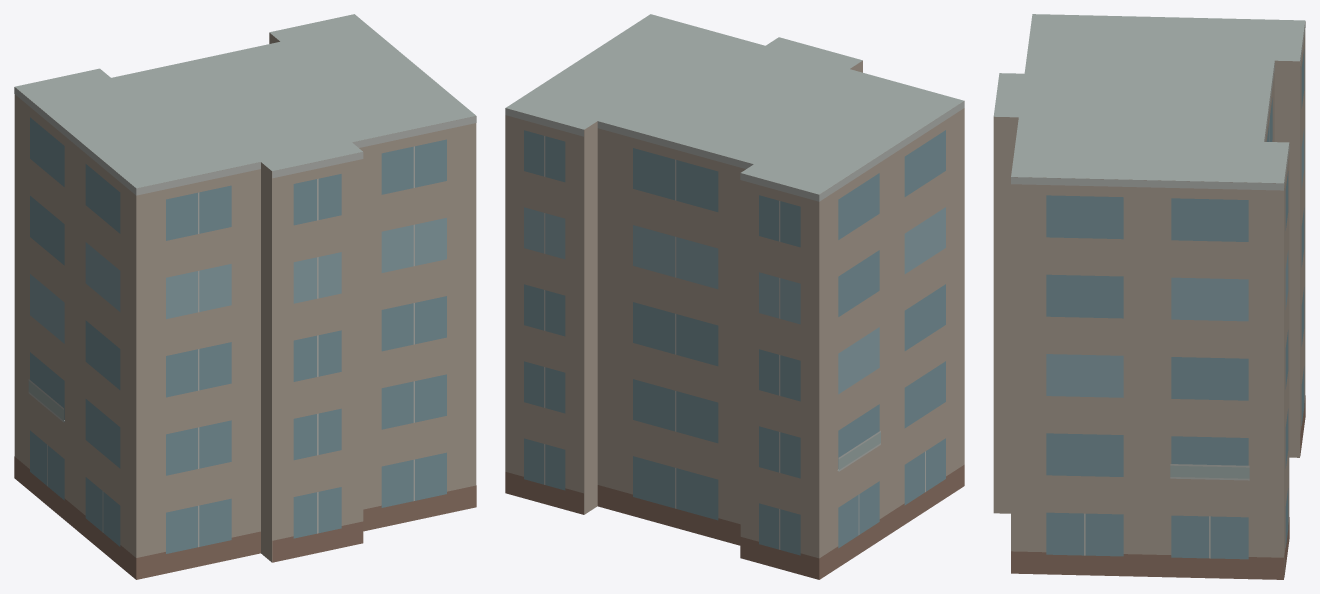
The model's file is survey-upis-32630335.glb.
3 renders of one model, left to right at view 1: azimuth 30°, elevation 25°; view 2: azimuth 150°, elevation 25°; view 3: azimuth 270°, elevation 25°, orthographic. The views are drawn at different scales.
Parts seen in each view (by area): view 1: survey-upis-32630335.tmp; view 2: survey-upis-32630335.tmp; view 3: survey-upis-32630335.tmp.
Boxes of the visible parts, box(x1,y1,x2,y2) form: survey-upis-32630335.tmp: box(14, 14, 476, 579); survey-upis-32630335.tmp: box(505, 14, 964, 579); survey-upis-32630335.tmp: box(993, 14, 1305, 579).
Size of the model in its own units: 12.19 by 13.3 by 9.49.
